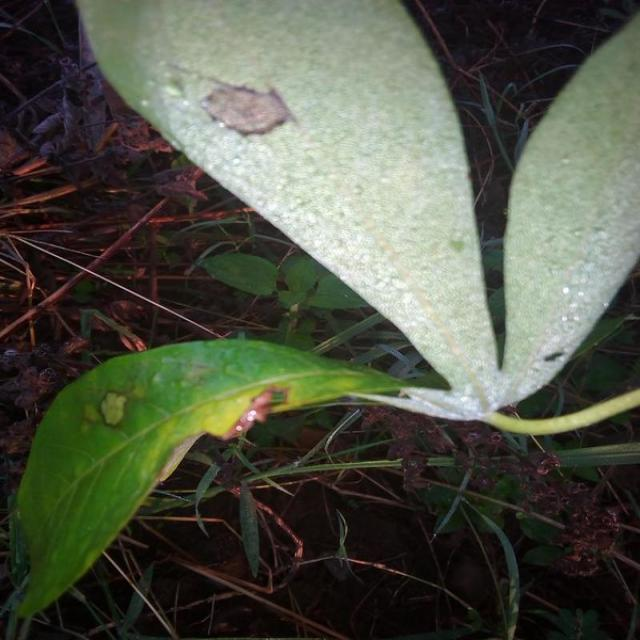cassava leaf: (73, 0, 638, 421), (11, 335, 426, 620)
